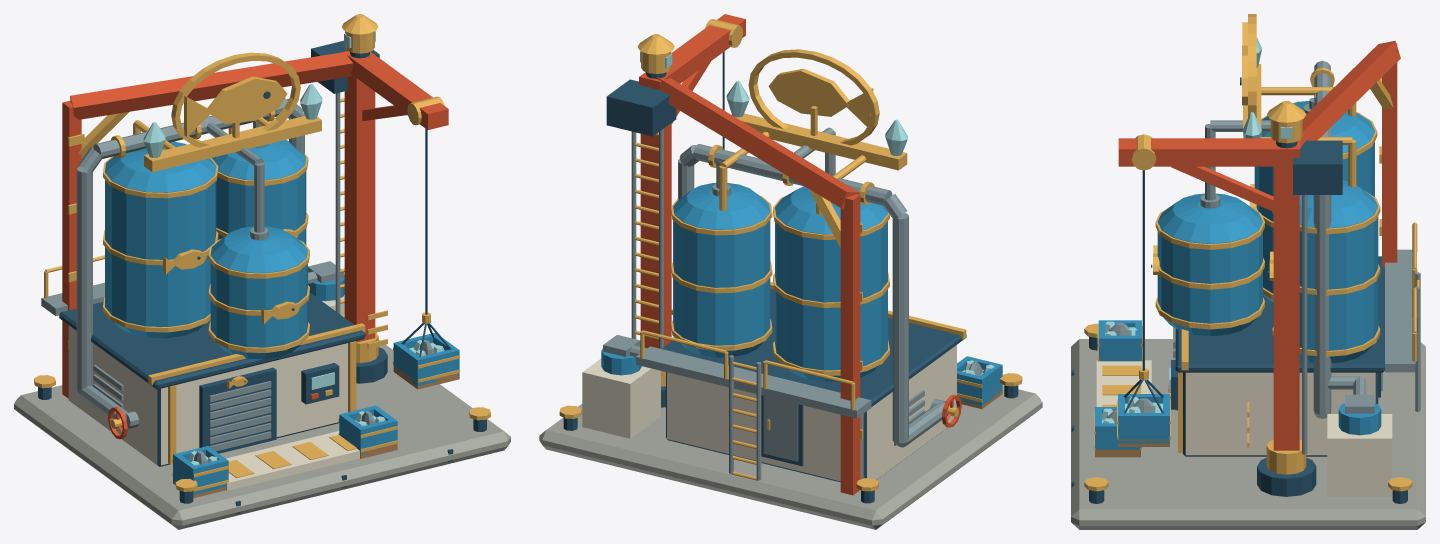
The model's file is marine-plant-lv4.glb.
3 renders of one model, left to right at view 1: azimuth 30°, elevation 25°; view 2: azimuth 150°, elevation 25°; view 3: azimuth 270°, elevation 25°, orthographic. The views are drawn at different scales.
Visible parts, largest first — view 1: Plant_L4, Fish_Cargo.003, Beacon_Cap; view 2: Plant_L4, Beacon_Cap; view 3: Plant_L4, Fish_Cargo.003, Beacon_Cap, Hoist_Rope.003, Cargo_Slings.003.
Part boxes in pixels (x1,y1,x2,y2): Plant_L4: (14,14,510,529); Fish_Cargo.003: (393,332,459,389); Beacon_Cap: (344,31,375,53); Plant_L4: (539,14,1042,529); Beacon_Cap: (640,51,672,73); Plant_L4: (1071,14,1425,529); Fish_Cargo.003: (1117,394,1170,446); Beacon_Cap: (1270,119,1302,143); Hoist_Rope.003: (1142,170,1144,370); Cargo_Slings.003: (1123,368,1163,413).
Size of the model in its own units: 5.5 by 5.9 by 4.65.
